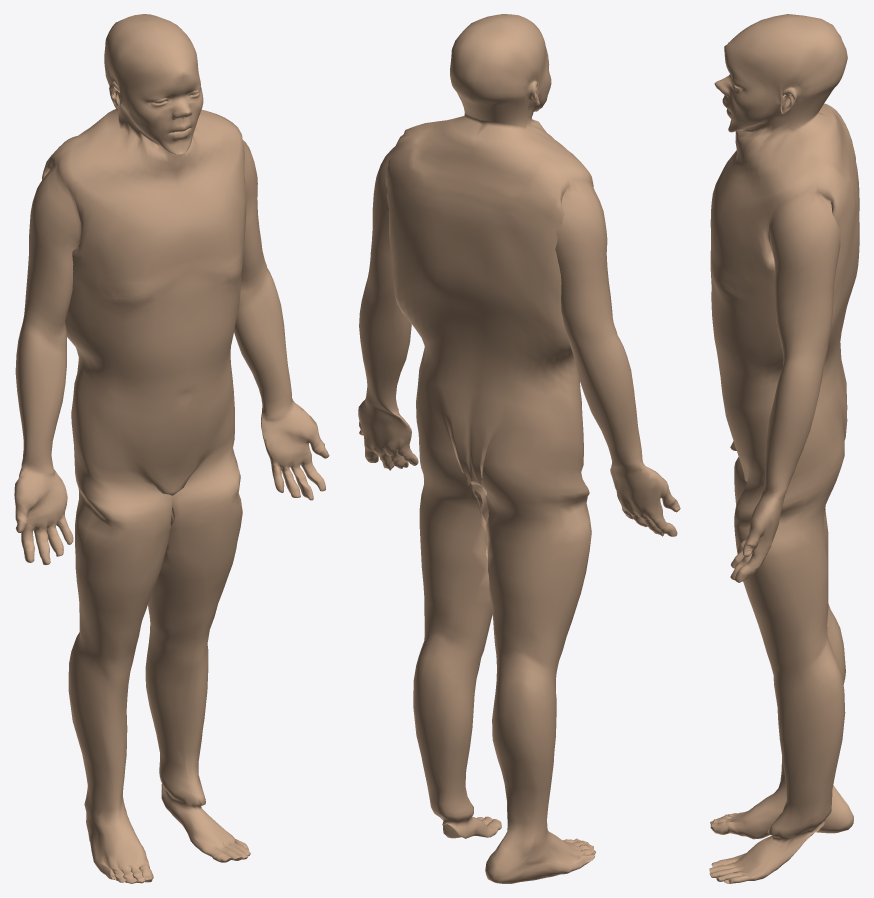
File: skin-candidate-r58p1.glb
The picture shows the model from 3 angles, left to right: view 1: azimuth 30°, elevation 25°; view 2: azimuth 150°, elevation 25°; view 3: azimuth 270°, elevation 25°; orthographic projection. The views are drawn at different scales.
Parts seen in each view (by area): view 1: MakeHuman_AT10_skin_fit_candidate_r58p1; view 2: MakeHuman_AT10_skin_fit_candidate_r58p1; view 3: MakeHuman_AT10_skin_fit_candidate_r58p1.
Boxes of the visible parts, left/top/right/bottom form: MakeHuman_AT10_skin_fit_candidate_r58p1: left=14, top=14, right=329, bottom=883; MakeHuman_AT10_skin_fit_candidate_r58p1: left=358, top=14, right=680, bottom=883; MakeHuman_AT10_skin_fit_candidate_r58p1: left=709, top=14, right=859, bottom=883.
Size of the model in its own units: 0.6758 by 1.71 by 0.28.
